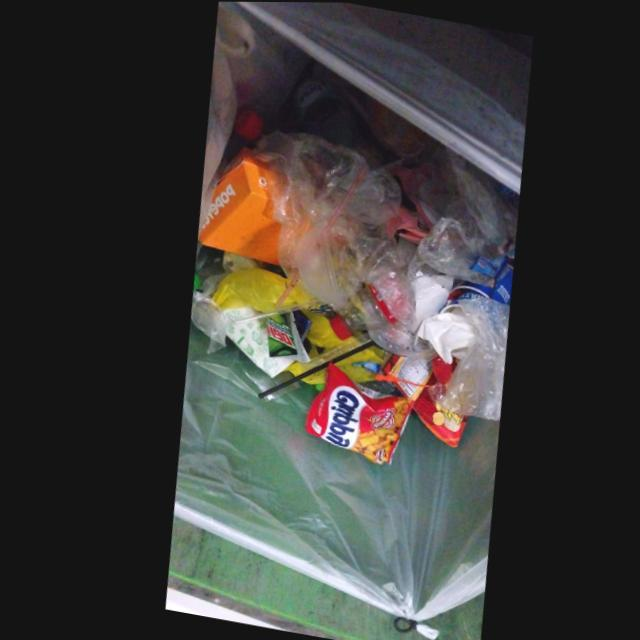paper: (193, 146, 283, 264)
plastic: (434, 293, 503, 419), (322, 283, 390, 339)
wrapper: (296, 360, 406, 463), (375, 353, 458, 446), (464, 246, 510, 278)
